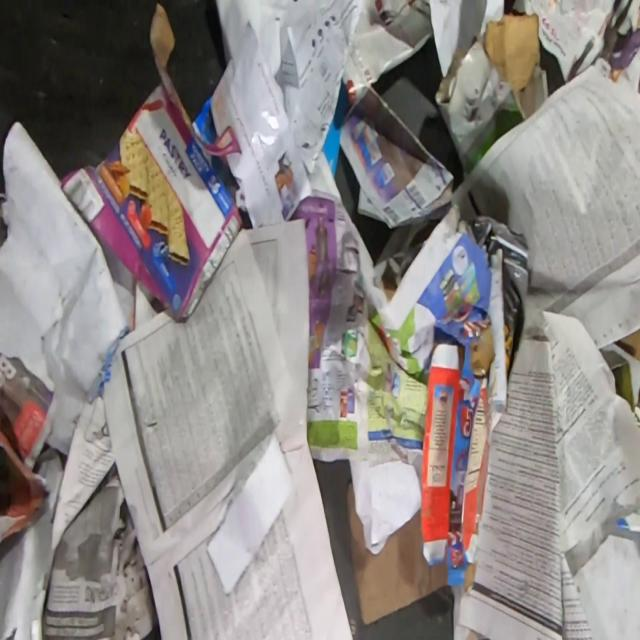cardboard: (60, 2, 244, 319), (419, 299, 496, 589), (433, 12, 540, 179), (345, 481, 446, 626)
